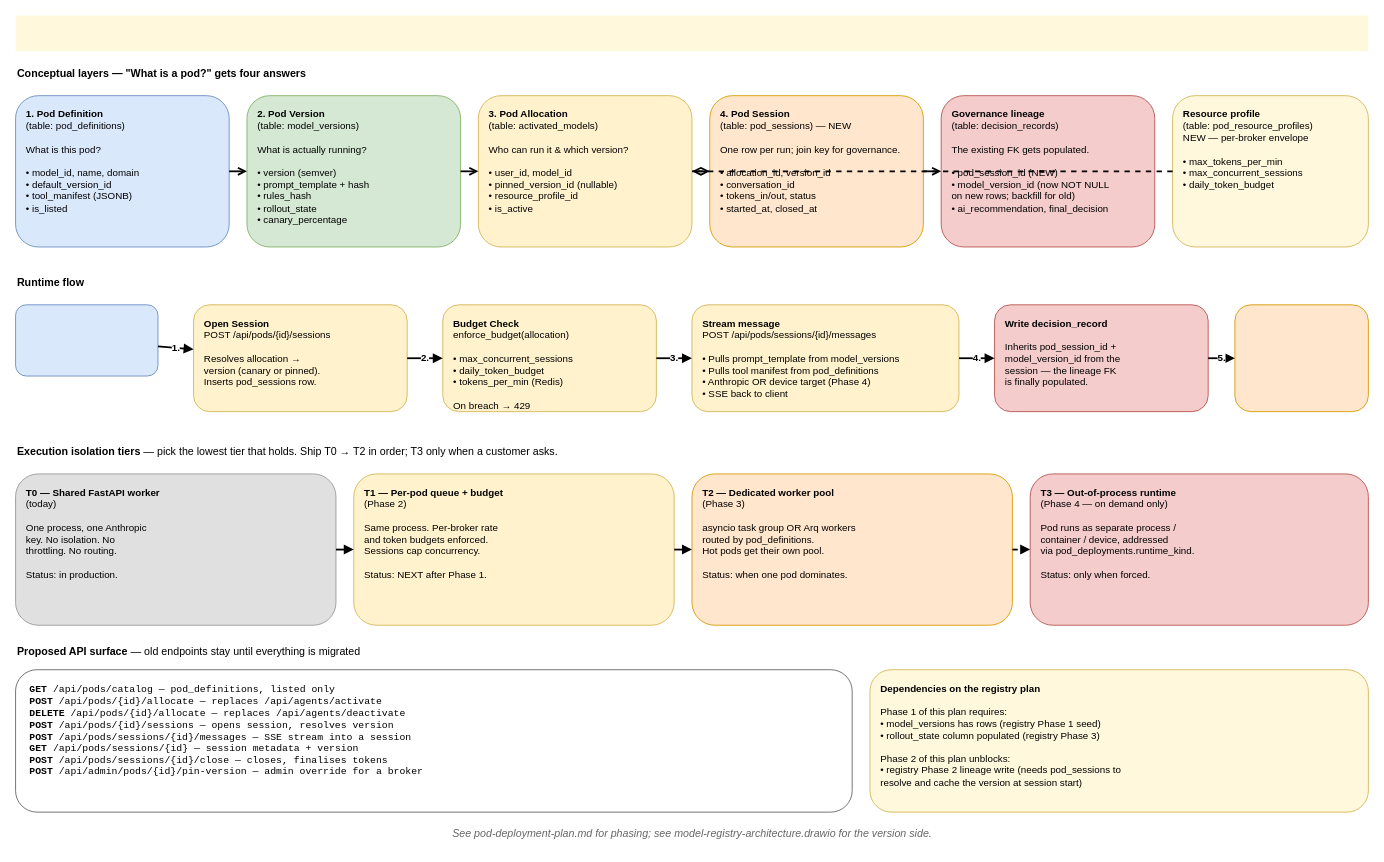
This 1384x862 diagram has some shape labels left out. The centre of each missing label's shape, as x and y in pixels:
2. Target Architecture — Versioned pods, session-scoped runs, governance lineage: the point at 691,33
Broker hits "Run" in PodRunWorkspace: the point at 86,340
Close session POST .../close Sets status=closed, writes final tokens_in/out: the point at 1301,358
